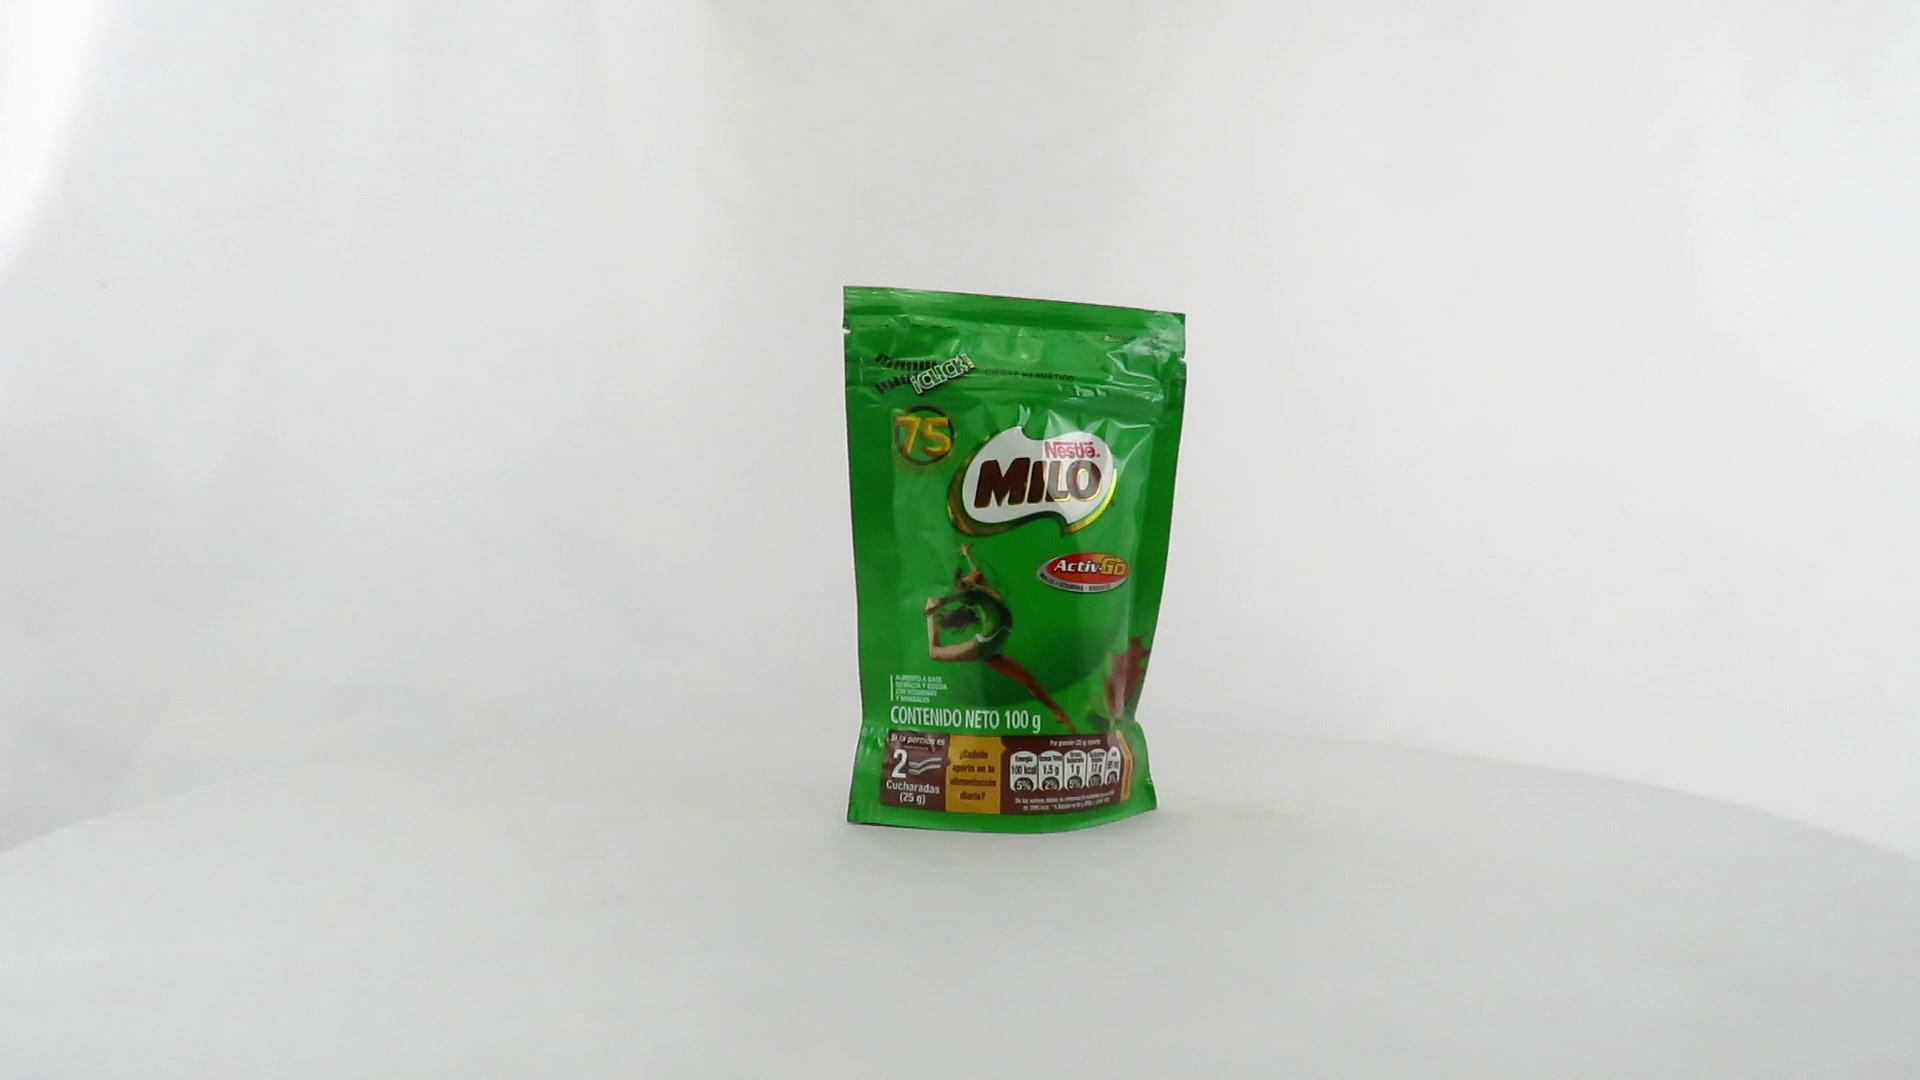COL0170203DYP10000: (837, 280, 1193, 841)
